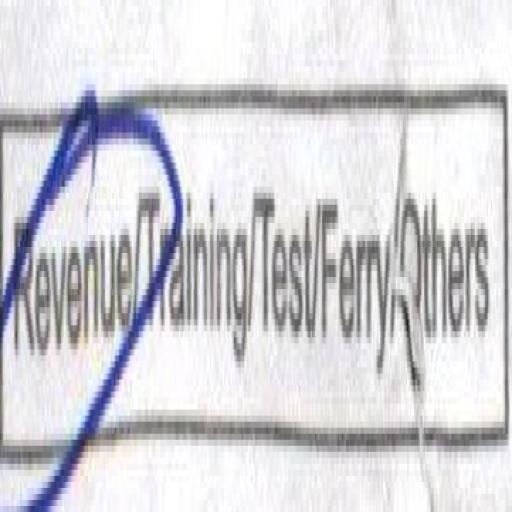check: (1, 24, 135, 512)
